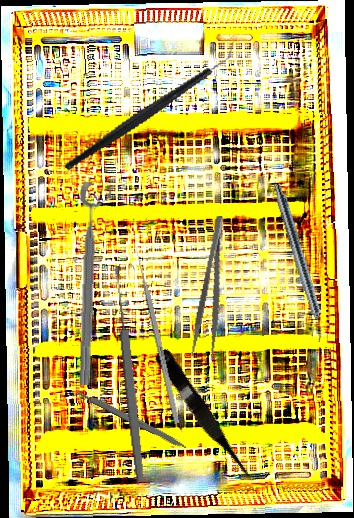Chopper: (45, 39, 257, 172)
Dressing Forceps: (188, 214, 239, 361)
Fixation Ring: (72, 181, 115, 387)
Handpiece: (268, 182, 331, 343)
Micro Scissor: (150, 347, 259, 489)
Pusher: (132, 244, 181, 424)
Scalpel Handle: (75, 387, 189, 451)
Surgical Spoon: (111, 264, 147, 484)
